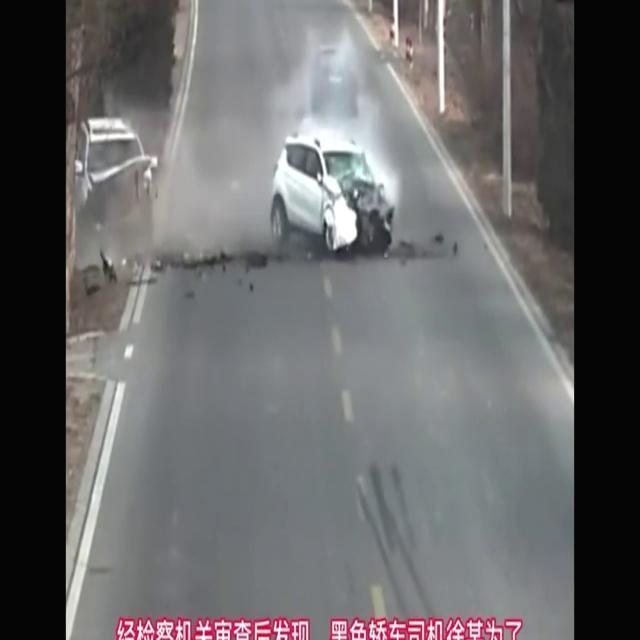accident: (74, 116, 458, 298)
